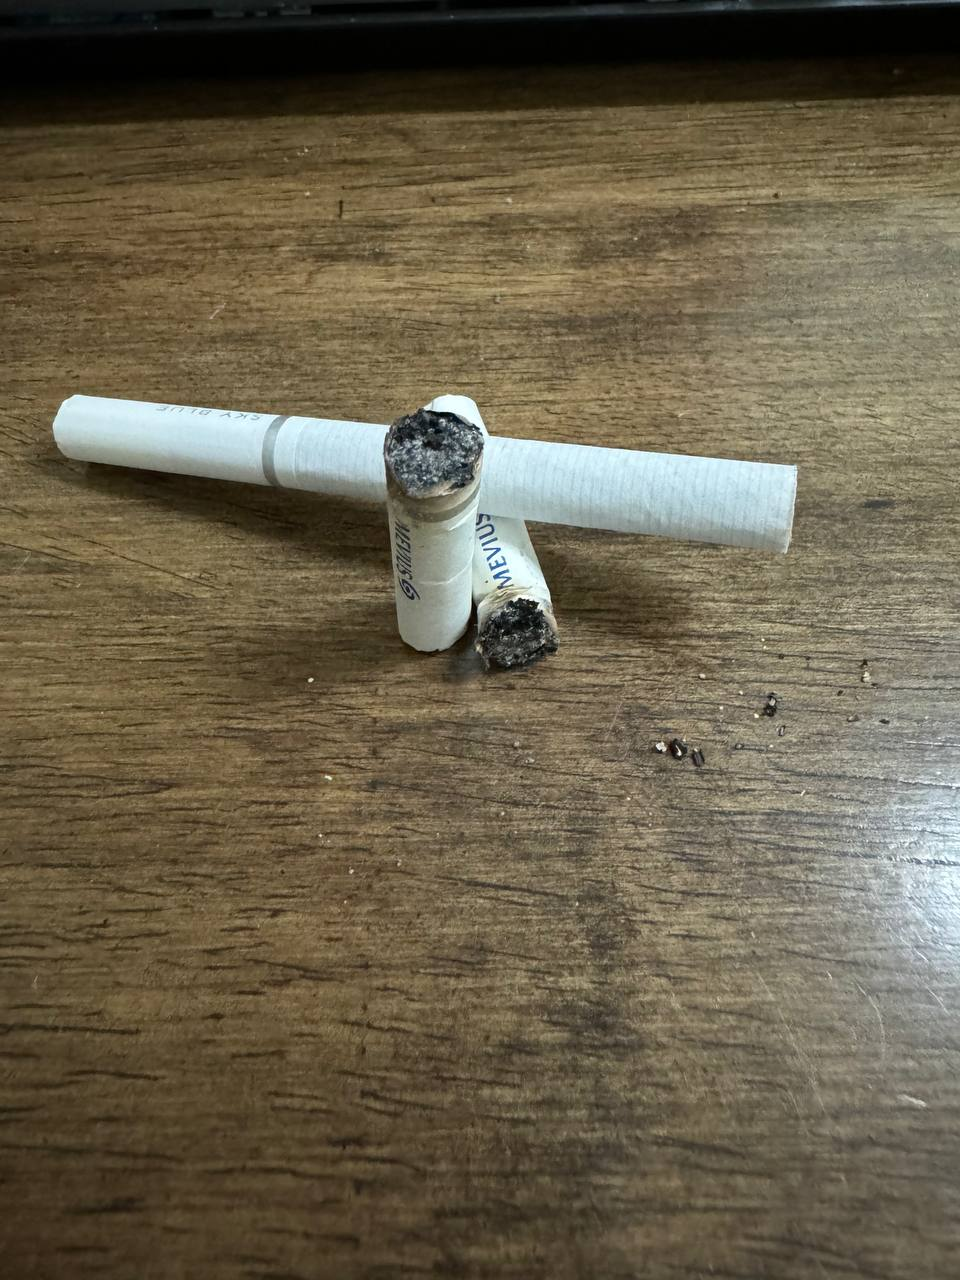trash: (35, 385, 815, 554), (408, 386, 568, 673), (368, 401, 501, 661)
